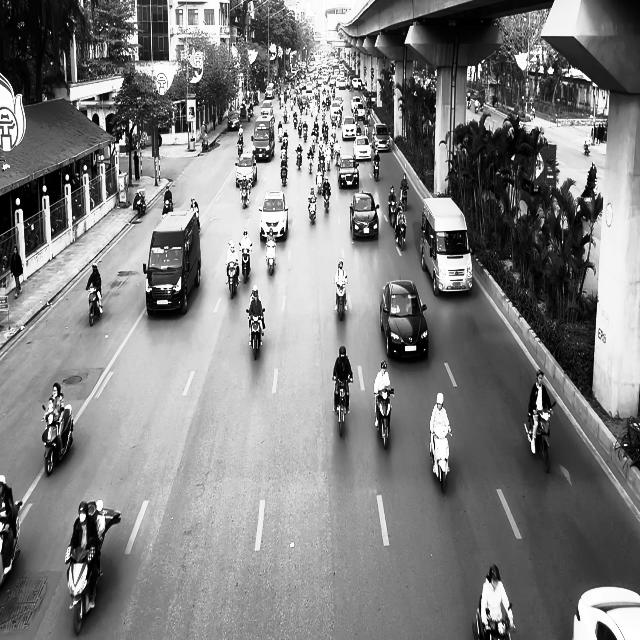bus: (420, 196, 473, 295)
car: (379, 280, 428, 360), (572, 586, 640, 640), (258, 190, 288, 240), (350, 192, 380, 240), (235, 152, 257, 186), (338, 154, 359, 188), (353, 135, 372, 161), (228, 110, 240, 130)
motorbike: (41, 401, 74, 476), (524, 401, 556, 473), (0, 500, 22, 586), (472, 595, 515, 639), (429, 425, 452, 494), (332, 375, 352, 436), (374, 388, 394, 449), (246, 308, 265, 360), (86, 286, 102, 326), (334, 278, 348, 320), (239, 243, 252, 283), (226, 261, 239, 299), (266, 236, 276, 275), (133, 188, 146, 216), (395, 218, 406, 250), (308, 196, 317, 224), (240, 183, 249, 209), (162, 197, 173, 217), (373, 157, 380, 180), (295, 148, 302, 170)
truck: (142, 208, 202, 316)
